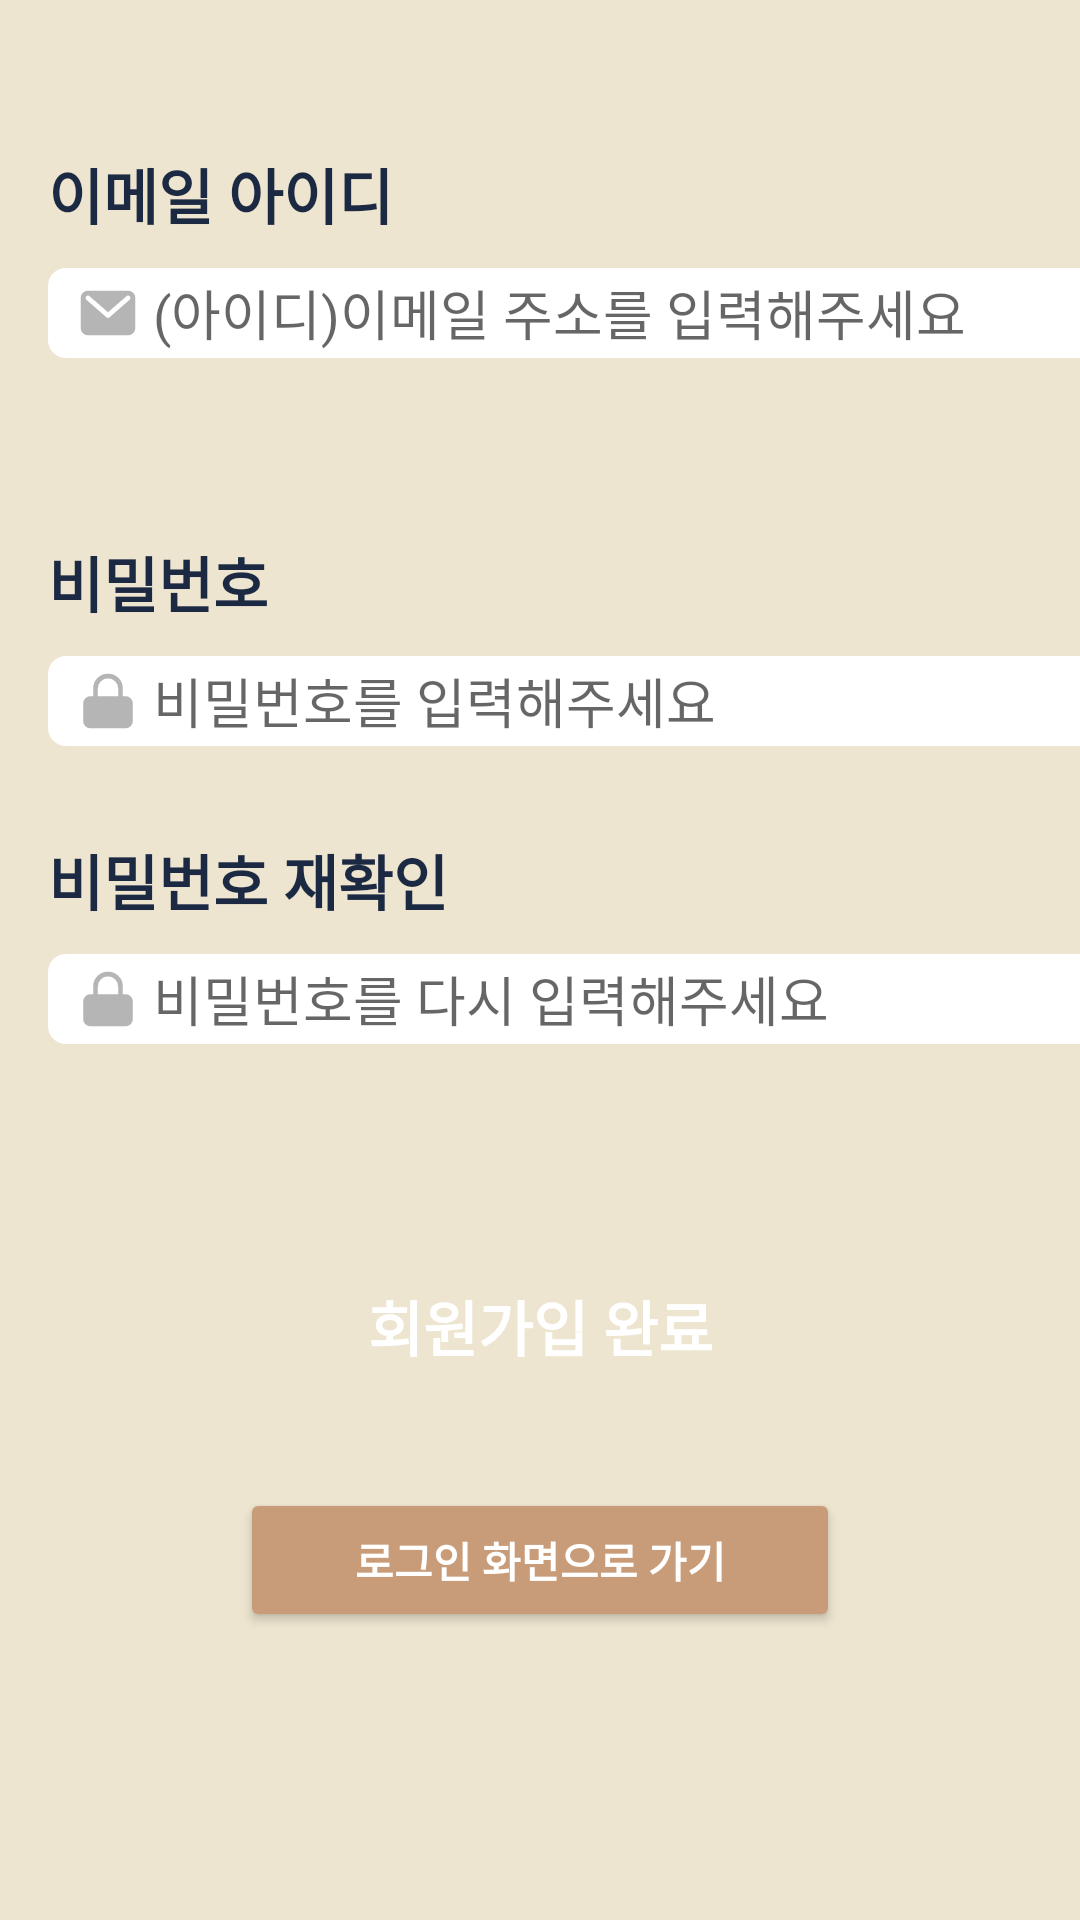

Screen size 1080px x 1920px. Icon name, then its center in pixels as point (x, y):
email: point (108, 313)
password: point (108, 701), point (108, 999)
